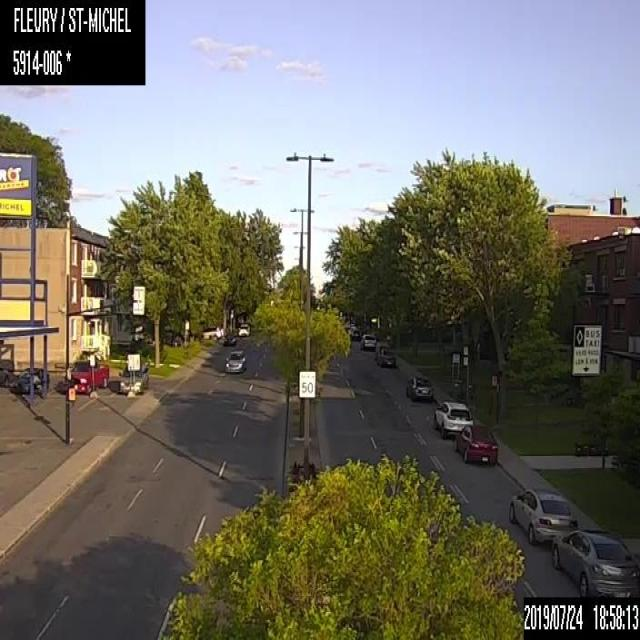vehicle: (548, 529, 637, 595), (507, 487, 577, 542), (64, 354, 110, 394), (456, 423, 497, 464), (432, 397, 472, 434), (9, 363, 49, 396), (117, 357, 149, 396), (403, 376, 434, 404), (223, 346, 247, 374), (376, 349, 396, 367), (199, 325, 223, 339), (359, 332, 378, 349), (222, 330, 236, 345), (372, 340, 390, 351), (236, 323, 250, 336)
